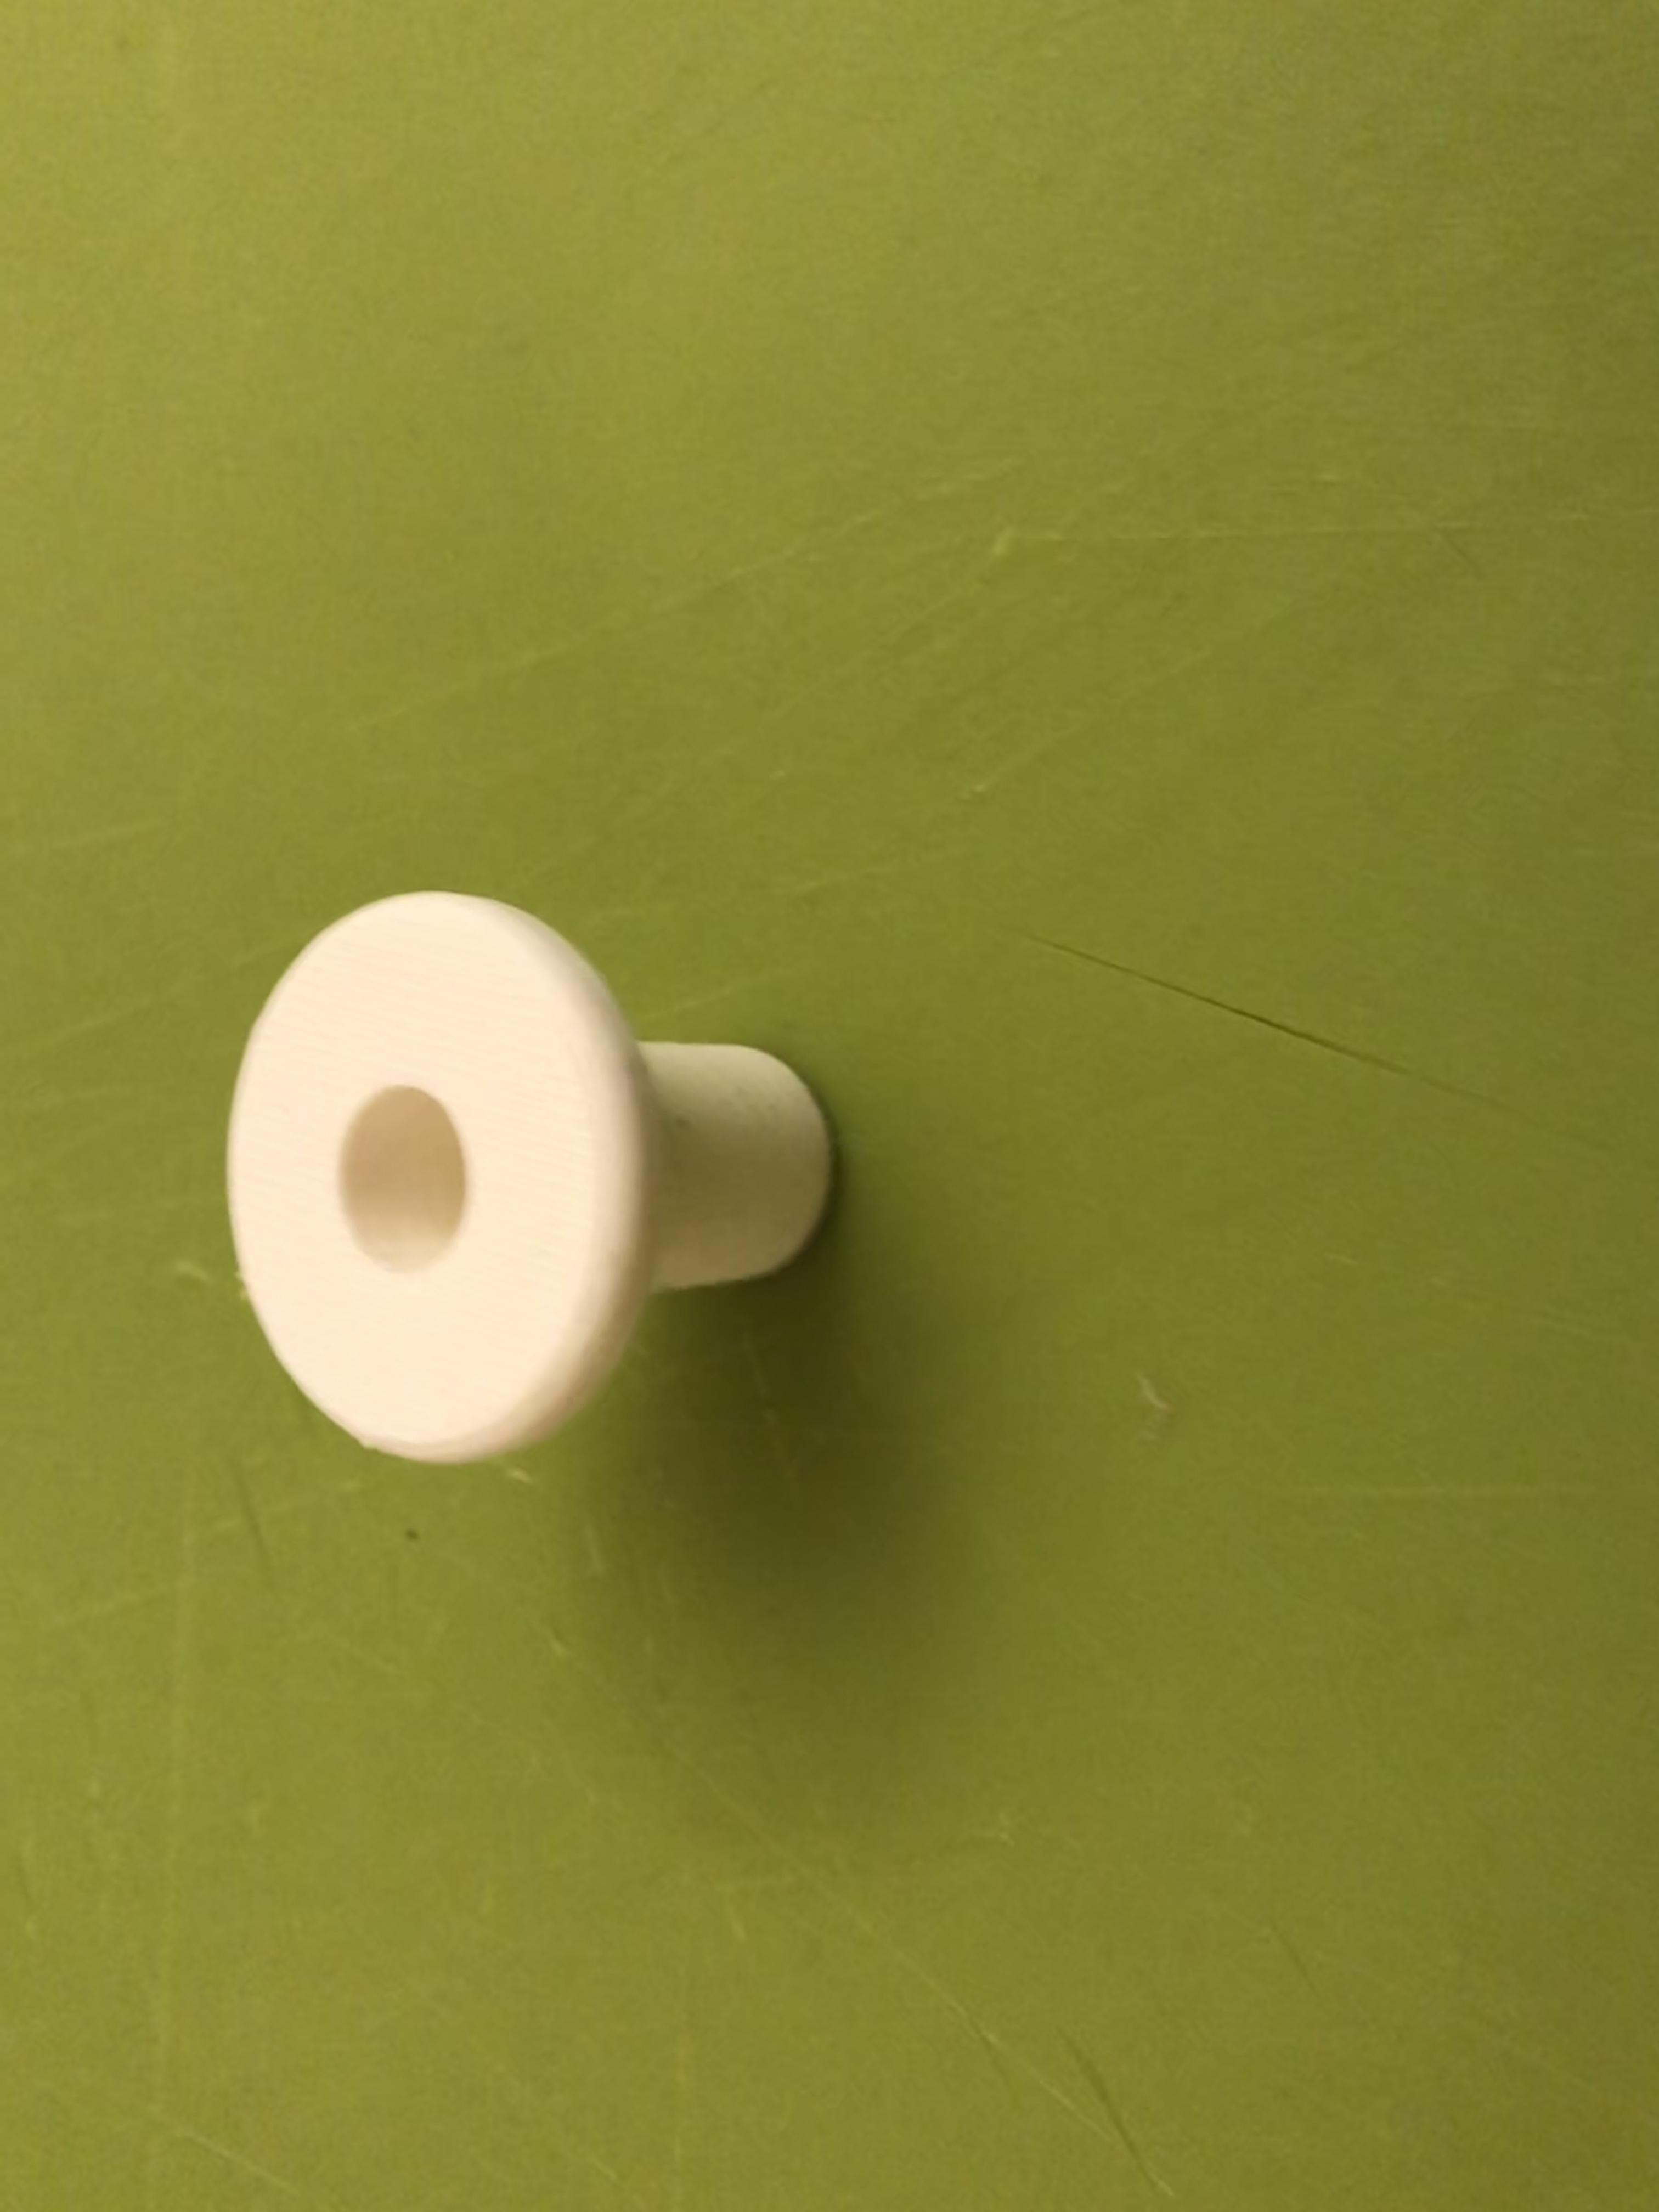White Cone: (199, 883, 850, 1493)
